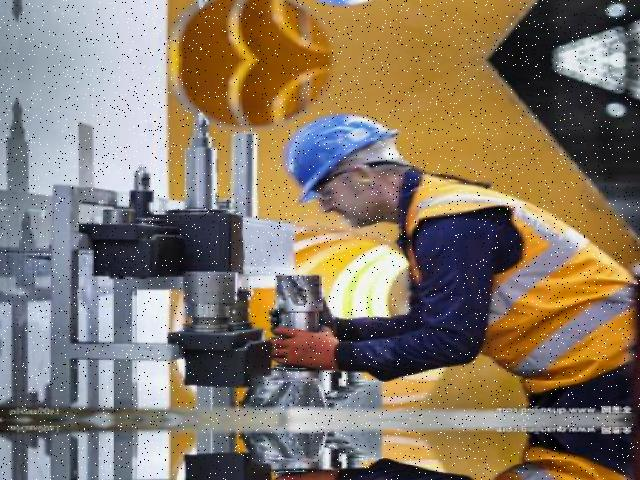Helmet: (281, 109, 408, 212)
